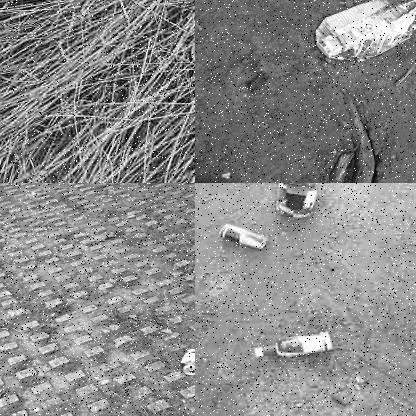cardboard: (276, 183, 321, 226)
metal: (320, 0, 415, 59), (218, 223, 269, 250), (173, 346, 194, 379)
plastic: (245, 326, 346, 363)
